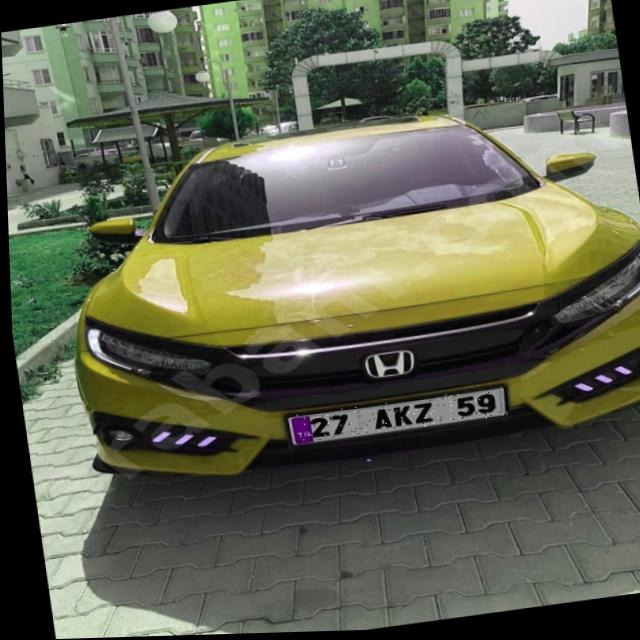license_plate: (284, 389, 507, 446)
